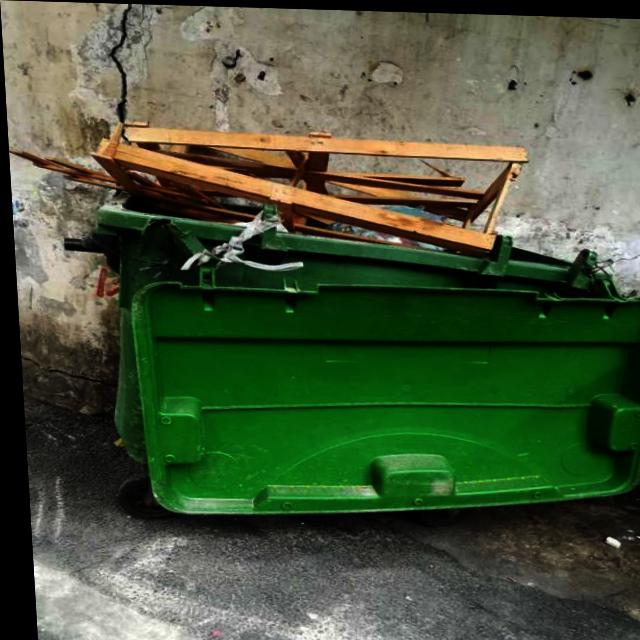overflow: (6, 116, 640, 529)
